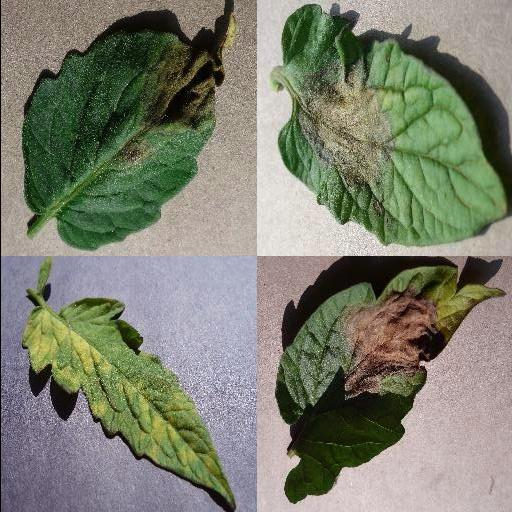Late Blight: (272, 265, 506, 505), (275, 5, 507, 247), (21, 1, 235, 251)
Leaf Mold: (16, 298, 234, 511)
